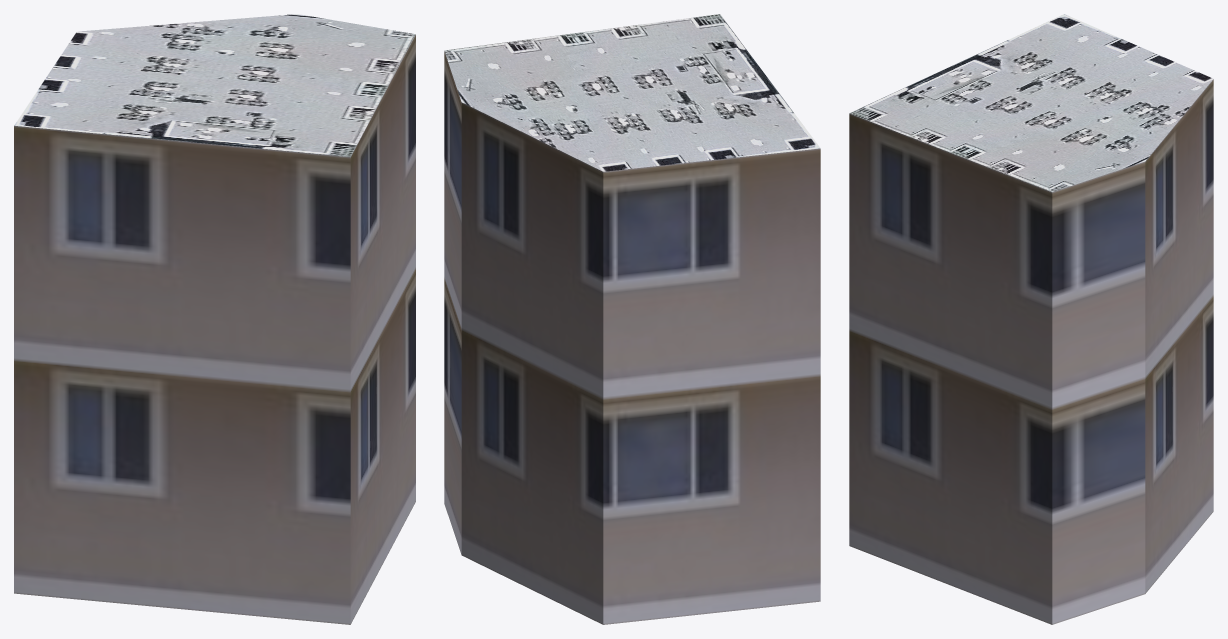
File: ResTex__1321.fbx
The picture shows the model from 3 angles, left to right: view 1: azimuth 30°, elevation 25°; view 2: azimuth 150°, elevation 25°; view 3: azimuth 270°, elevation 25°; orthographic projection. The views are drawn at different scales.
Visible parts, largest first — view 1: CityEngineMaterial_21_m, CityEngineMaterial_4_m; view 2: CityEngineMaterial_21_m, CityEngineMaterial_4_m; view 3: CityEngineMaterial_21_m, CityEngineMaterial_4_m.
Boxes of the visible parts, x1,y1,x2,y2 form: CityEngineMaterial_21_m: (14,34,415,624); CityEngineMaterial_4_m: (14,14,415,156); CityEngineMaterial_21_m: (444,51,820,624); CityEngineMaterial_4_m: (444,14,820,171); CityEngineMaterial_21_m: (849,79,1213,624); CityEngineMaterial_4_m: (849,14,1213,192).
Size of the model in its own units: 5.3 by 6 by 4.58.
2 materials, 2 textured.
